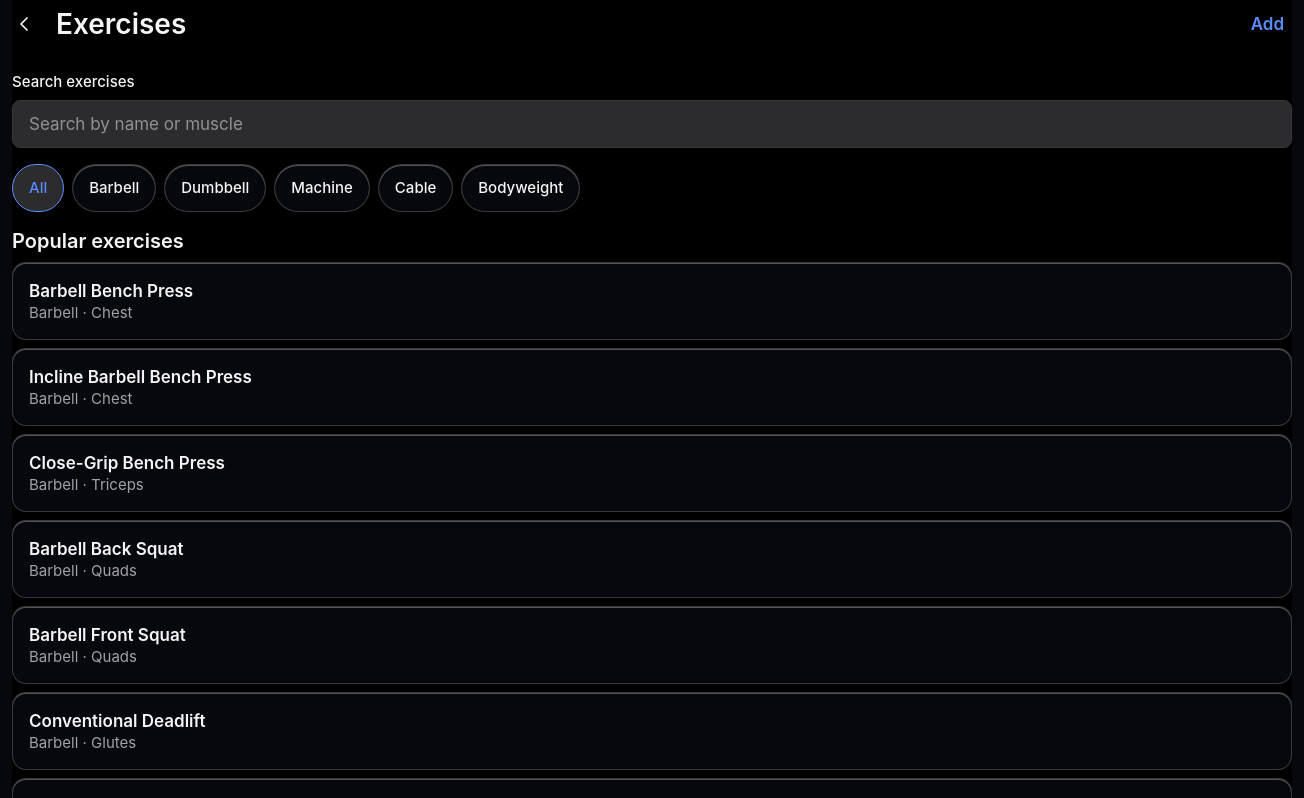
Test case: ExercisesPage: searching › clears the search with the clear button and returns to browsing
The width and height of the screenshot is (1304, 798).
Type "curl" into the search field labelled "Search exercises".
click(652, 124); type("curl")  # box top-left (12, 100), bottom-right (1292, 148)
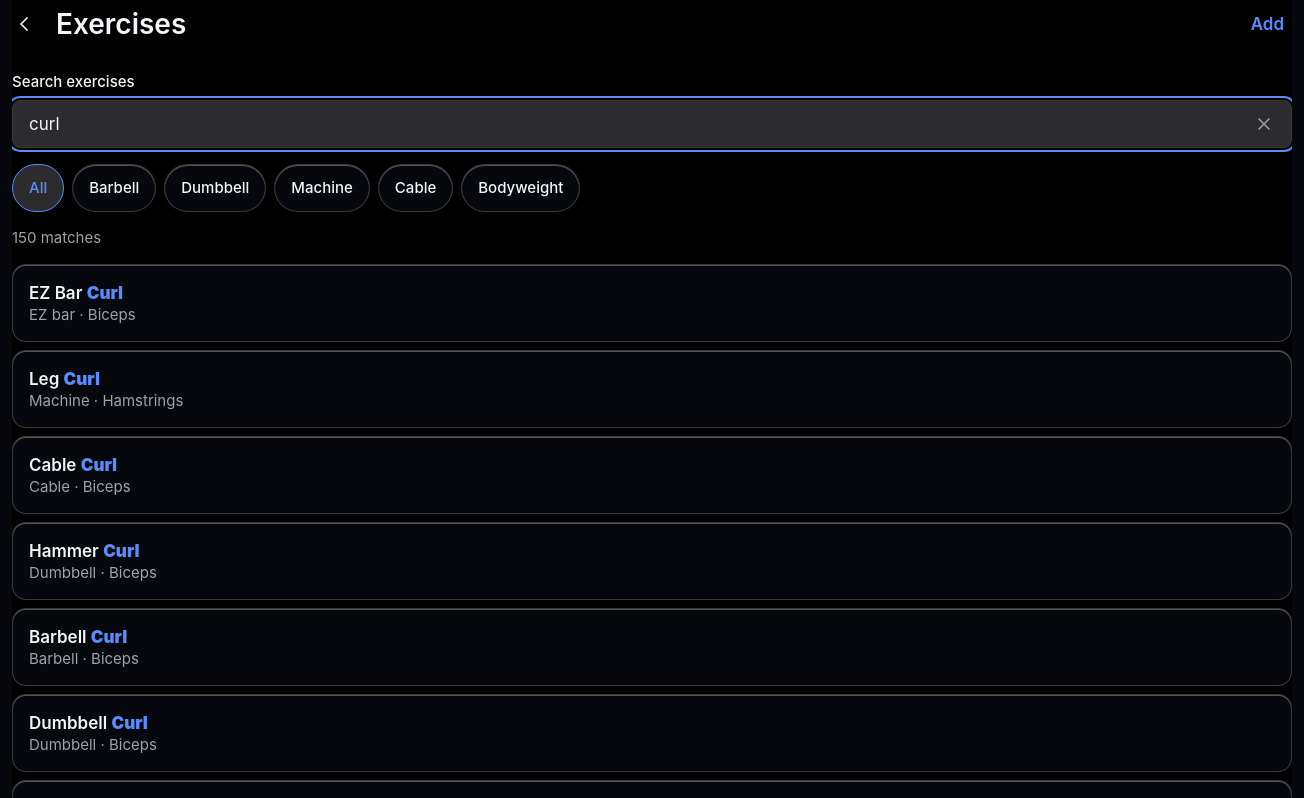
Click the button named "Clear search".
click(1264, 124)  # box top-left (1240, 100), bottom-right (1288, 148)
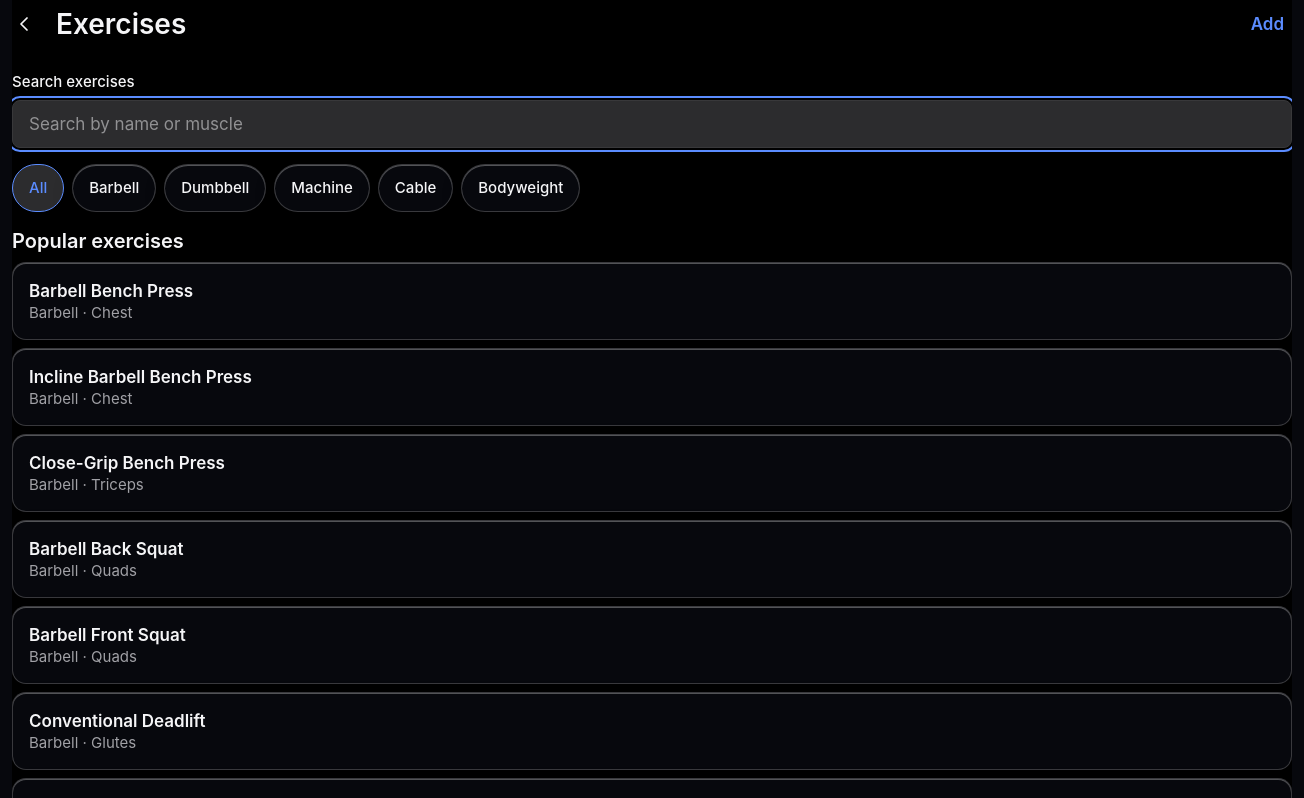
Now the search field labelled "Search exercises" is empty, box top-left (12, 100), bottom-right (1292, 148)
